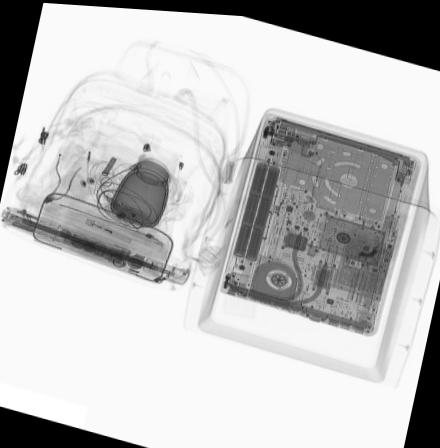Lighter: (82, 216, 133, 242)
